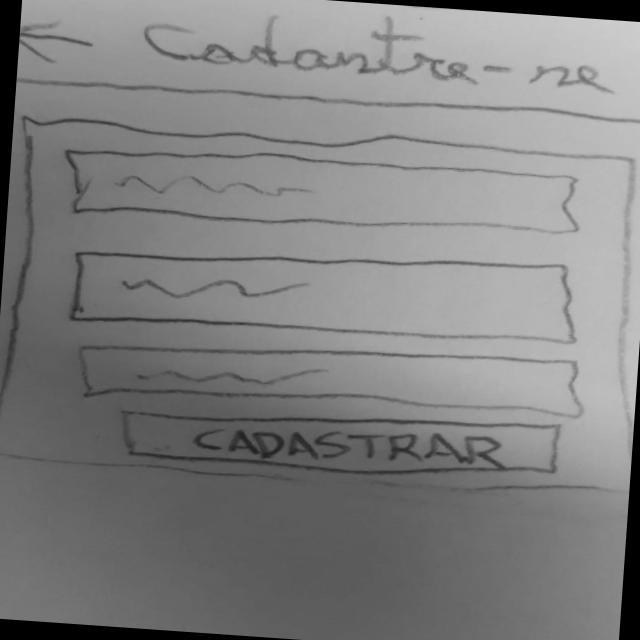button: (123, 398, 566, 488)
container: (1, 73, 640, 640), (1, 108, 640, 507)
icon-button: (19, 14, 109, 72)
input: (69, 231, 590, 357), (53, 138, 595, 251), (75, 327, 593, 428)
label: (137, 1, 631, 111)
